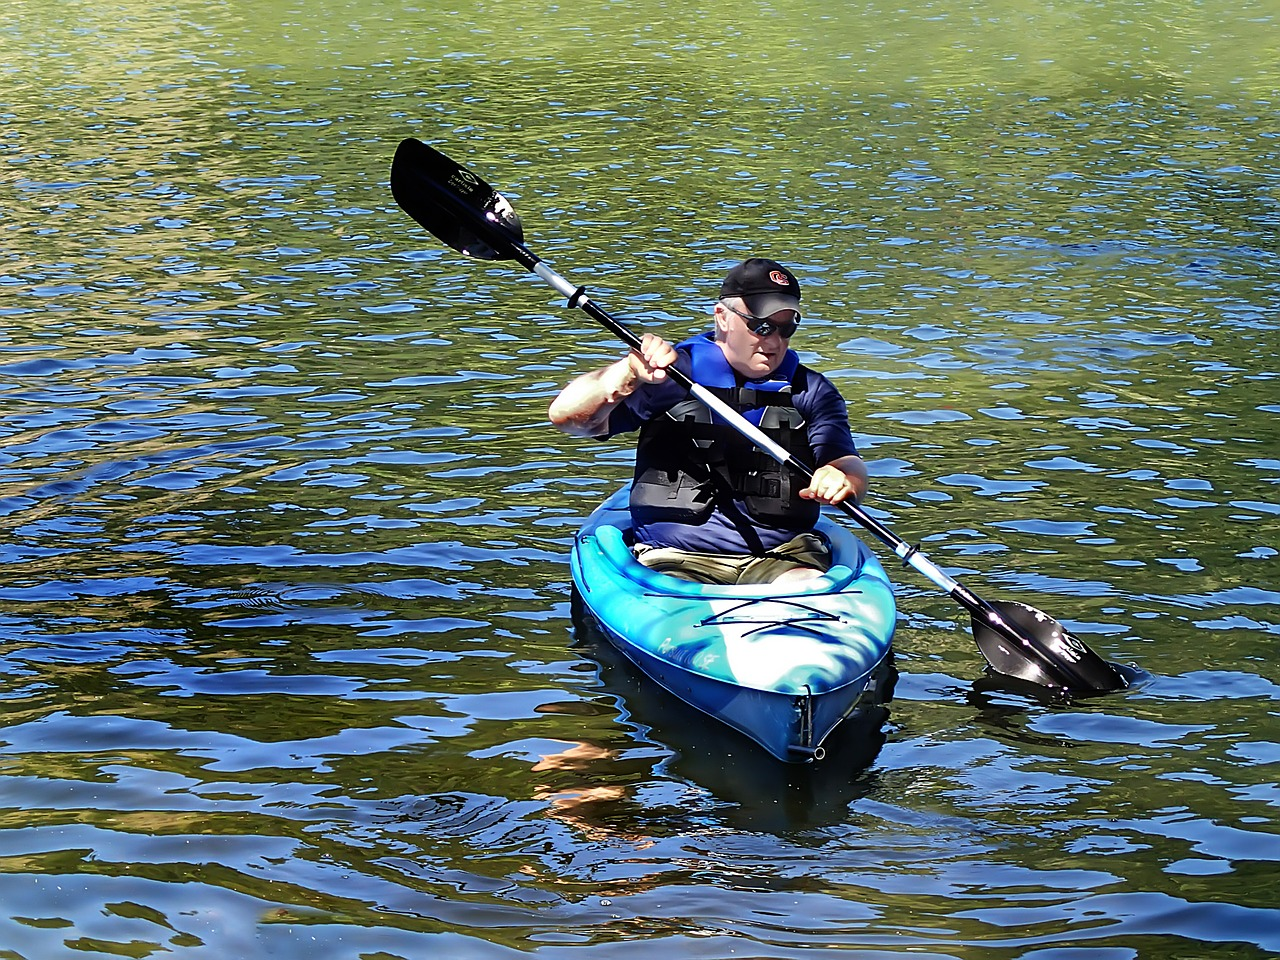kayak: (565, 468, 901, 772)
